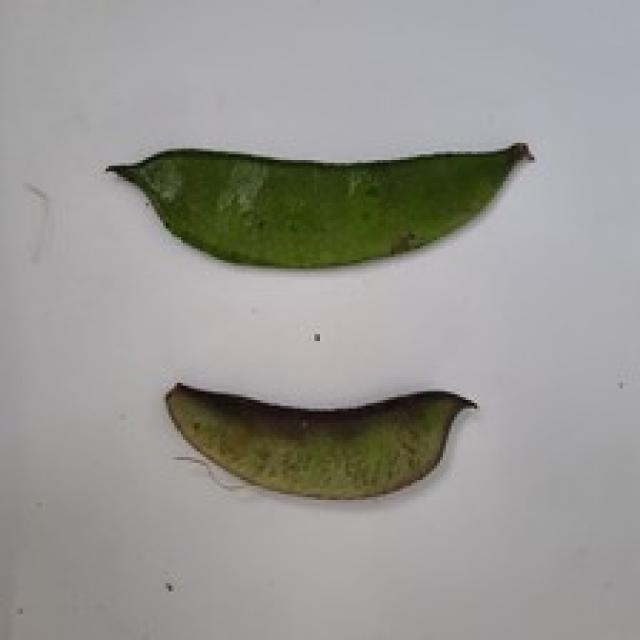Bean: (103, 137, 534, 269), (163, 380, 477, 500)
